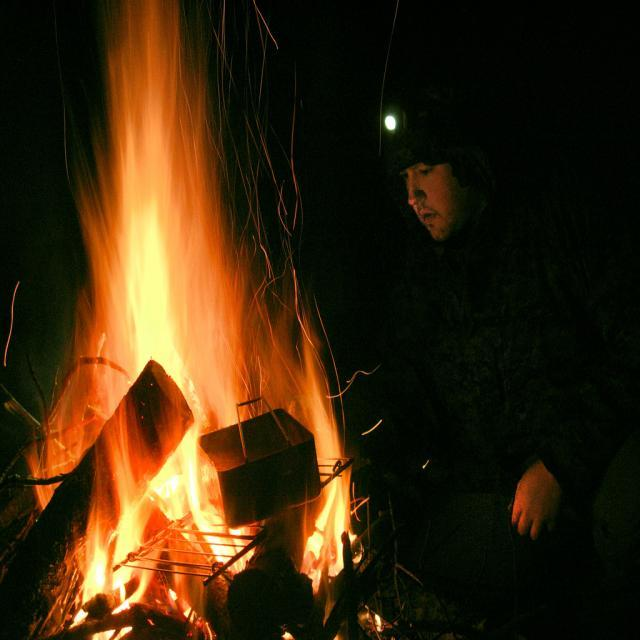Fire: (119, 160, 230, 497)
